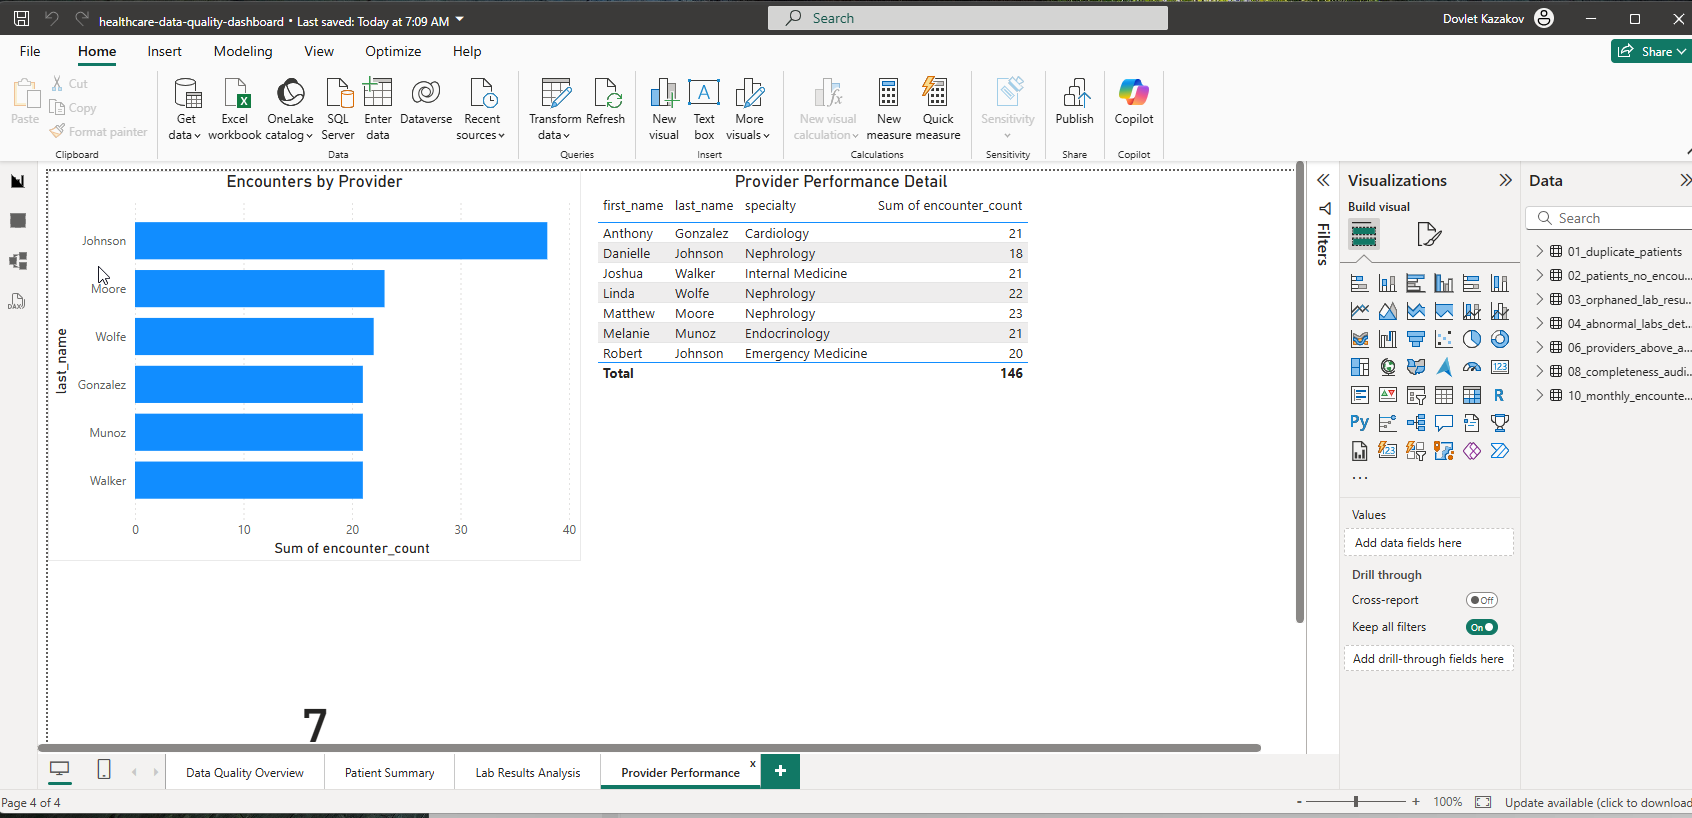

What the dashboard file says about the page in this screenshot:
{"tool":"powerbi","page":{"name":"Provider Performance","canvas":[1280,720],"ordinal":3},"visuals":[{"type":"clusteredBarChart","box":[0,0,449.2,360.6],"z":0}]}

Visuals, with their boxes on the page's 1280x720 design canvas (x1, y1, x2, y2). These are canvas units, not pixel positions in the 1692x818 screenshot, which may show the page scaled, cropped or inside an application window:
clusteredBarChart: <box>0,0,449,361</box>
